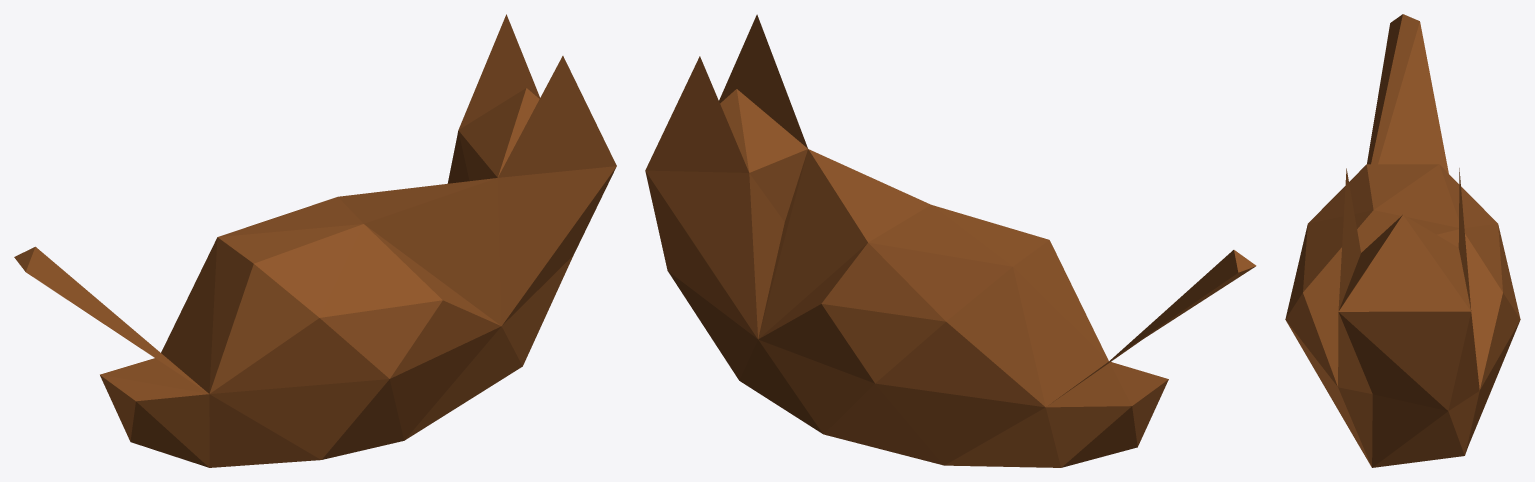
File: perro_vita.obj
3 views of the same model, side by side, from view 1: azimuth 30°, elevation 25°; view 2: azimuth 150°, elevation 25°; view 3: azimuth 270°, elevation 25° (orthographic).
Bounding box in the file's own units: 1.39 × 0.8276 × 0.5.
